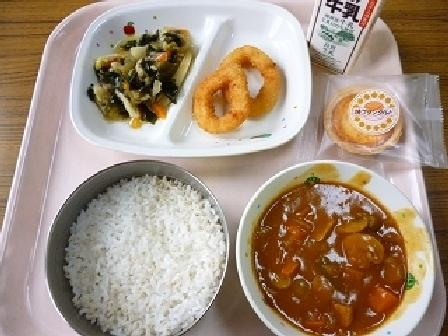Curry: (232, 168, 438, 329)
Milk: (297, 1, 384, 65)
Rice: (42, 167, 240, 330)
onion rings: (191, 45, 286, 135)
pastry: (308, 81, 435, 161)
salad with sauce: (75, 12, 192, 117)
